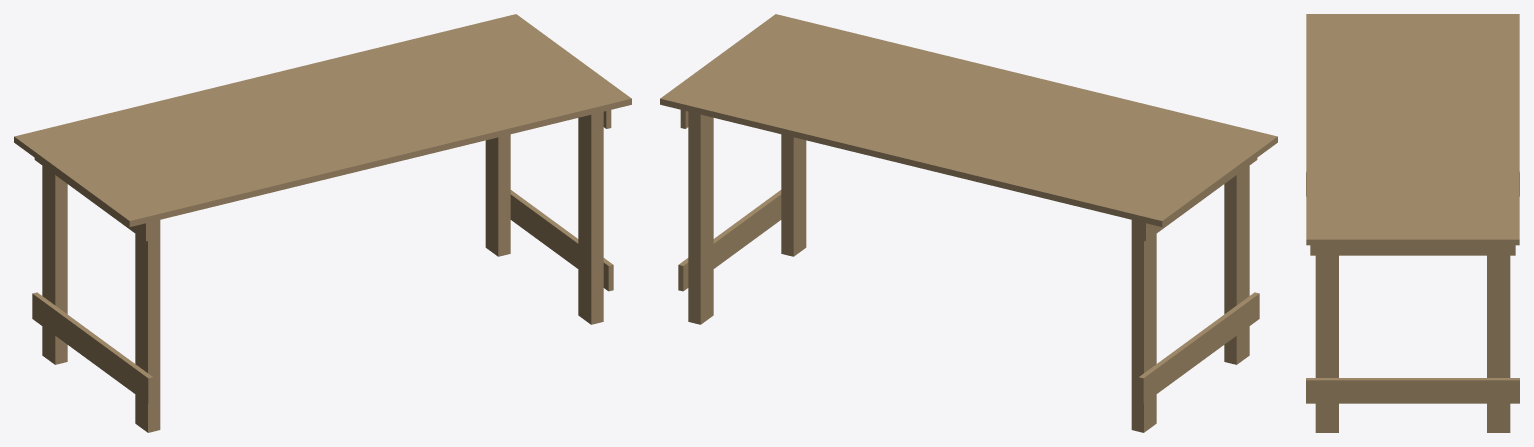
File: Table.fbx
3 renders of one model, left to right at view 1: azimuth 30°, elevation 25°; view 2: azimuth 150°, elevation 25°; view 3: azimuth 270°, elevation 25°, orthographic. The views are drawn at different scales.
Parts seen in each view (by area): view 1: Stol_wood; view 2: Stol_wood; view 3: Stol_wood.
Part boxes in pixels (<box>): Stol_wood: <box>14,14,631,432</box>; Stol_wood: <box>660,14,1277,432</box>; Stol_wood: <box>1306,14,1519,432</box>.
Size of the model in its own units: 565 by 238 by 226.
